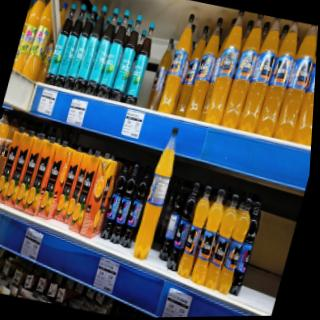Juice: (122, 121, 188, 269), (199, 8, 253, 129), (189, 184, 231, 287), (175, 184, 215, 284), (77, 148, 120, 240), (64, 146, 104, 234), (37, 138, 73, 221), (14, 128, 48, 207), (24, 137, 57, 216)
beverage: (122, 4, 164, 107), (87, 0, 127, 95), (75, 0, 112, 97), (113, 6, 151, 98), (63, 0, 99, 93), (43, 0, 78, 85), (56, 0, 90, 83)
